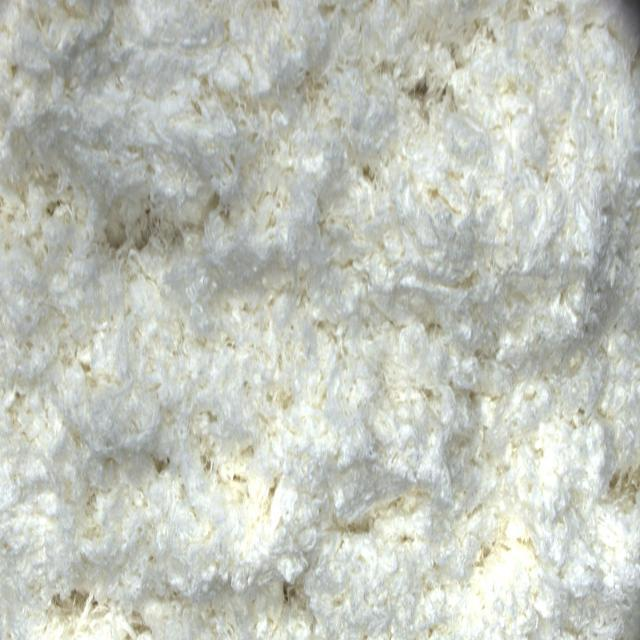dust: (414, 76, 431, 116), (277, 580, 299, 603)
